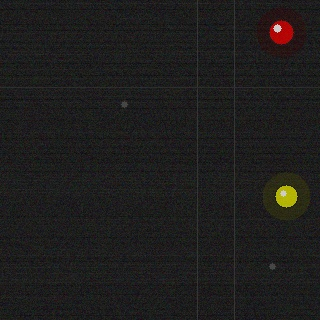red_fault: (267, 18, 295, 46)
yellow_warning: (273, 183, 299, 209)
